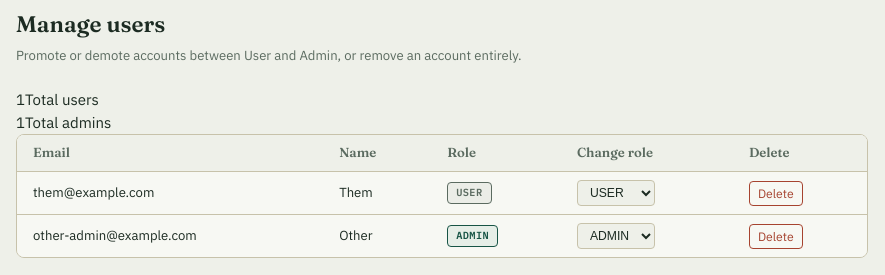
AdminUsersComponent › lets a SUPER_ADMIN delete an account after confirming
This screenshot has width=885, height=275.
Click the button "Delete" in the row of "them@example.com".
click(776, 193)  # box [749,181,803,206]
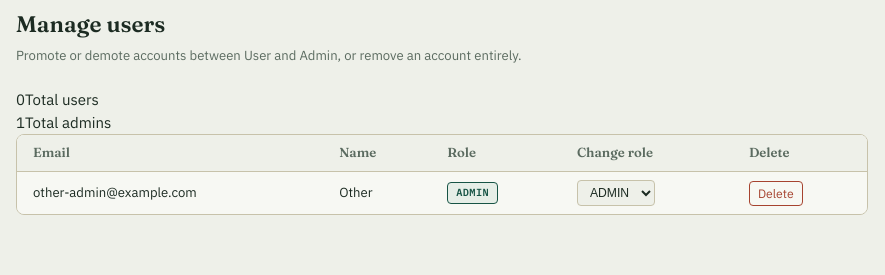
Now the text "them@example.com" is gone
